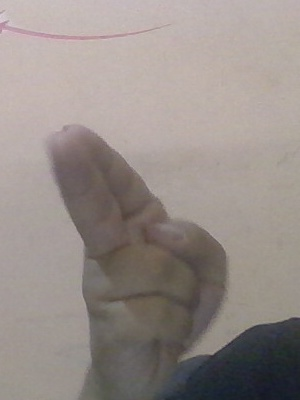H: (47, 119, 256, 378)
